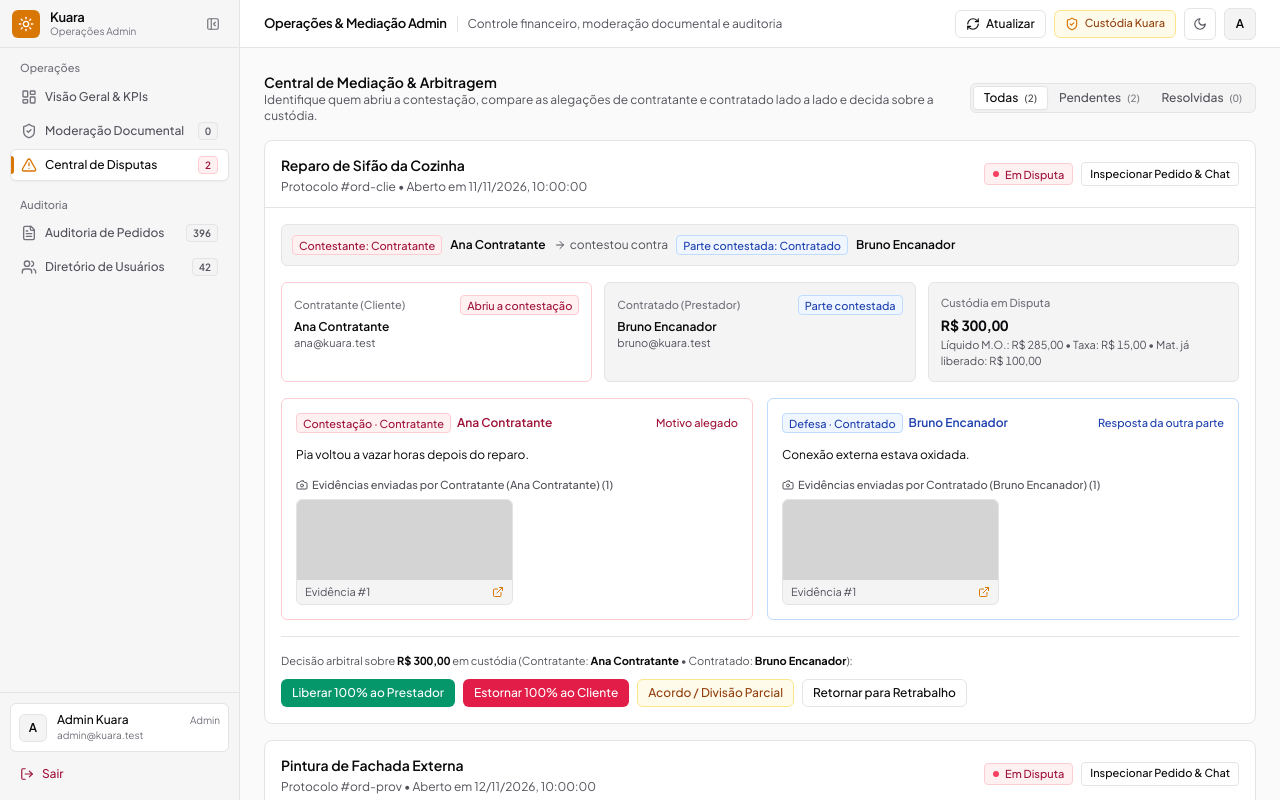
AdminDashboard Logic & Requirements Compliance › clearly distinguishes client-opened vs provider-opened disputes and calculates SPLIT on heldPoolCents
This screenshot has width=1280, height=800.
Expected: the link "Reparo de Sifão da Cozinha" is shown, [281,156,465,174]
Expected: the text "Contestante: Contratante" is shown, [299,240,435,250]
Note: SPLIT modal computes percentages on heldPoolCents (30000 labor, excluding 10000 released materials)
Click the button "Acordo / Divisão Parcial".
click(716, 692)  # box [637,678,794,706]
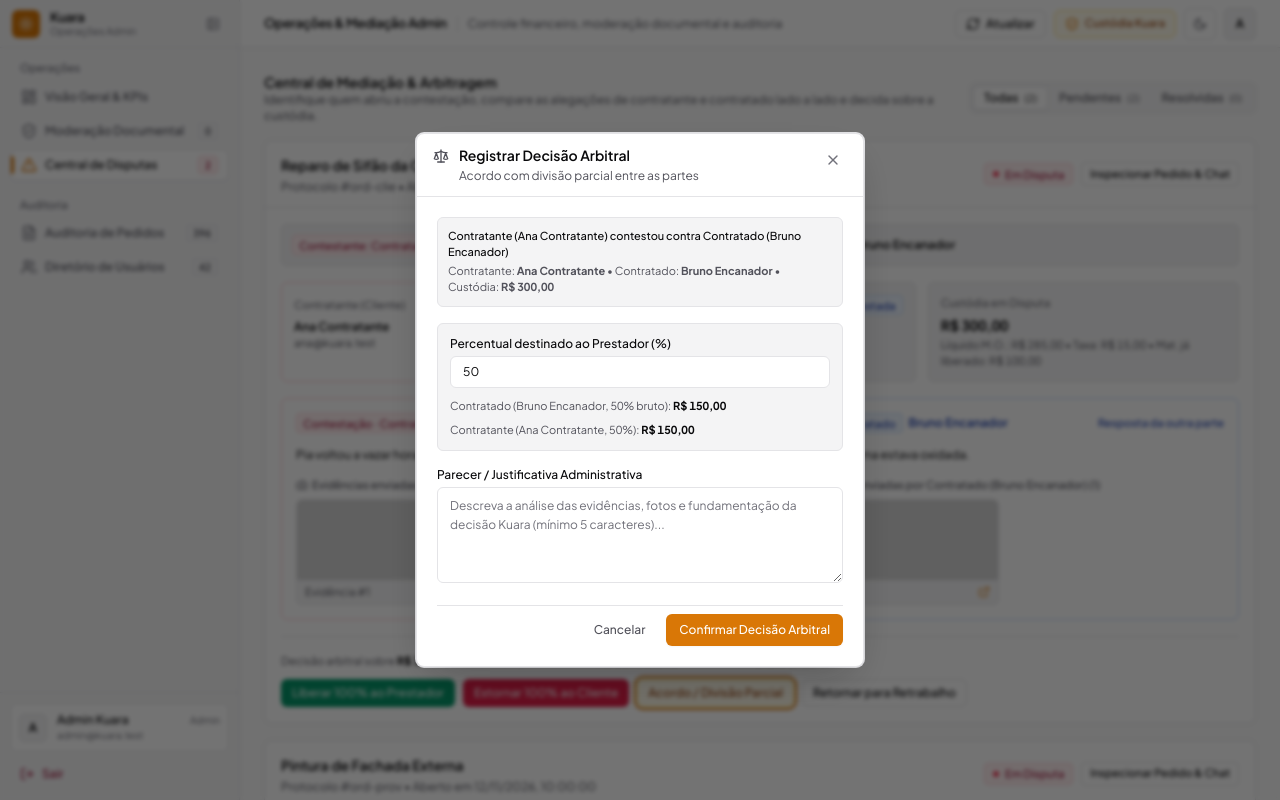
Expected: the text "R$ 300,00" is shown, [501,280,554,293]
Replace the text in the number field labelled "Percentual destinado ao Prestador (%)" with "60" at (640, 372), box [450,356,830,388]
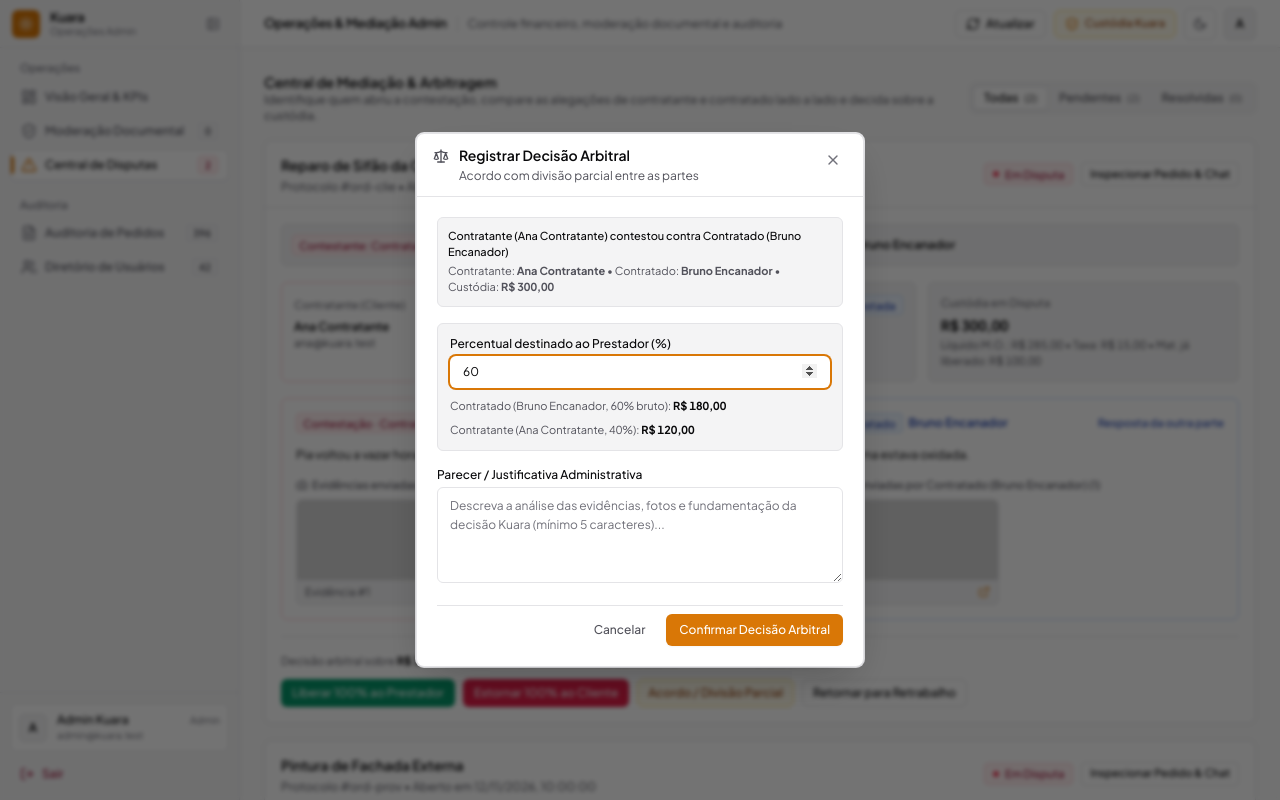
Expected: the text "R$ 180,00" is shown, [673,399,726,412]
Expected: the text "R$ 120,00" is shown, [641,423,694,436]
